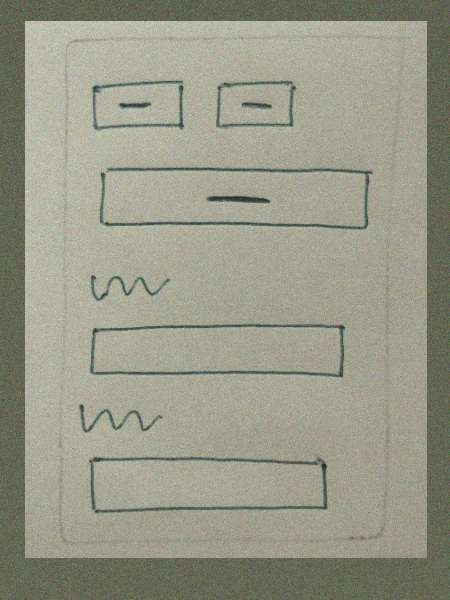button: (93, 159, 378, 246), (88, 74, 196, 144), (209, 76, 303, 142)
text: (77, 399, 167, 446), (85, 264, 177, 308)
text_input: (88, 318, 352, 385), (85, 453, 329, 521)
